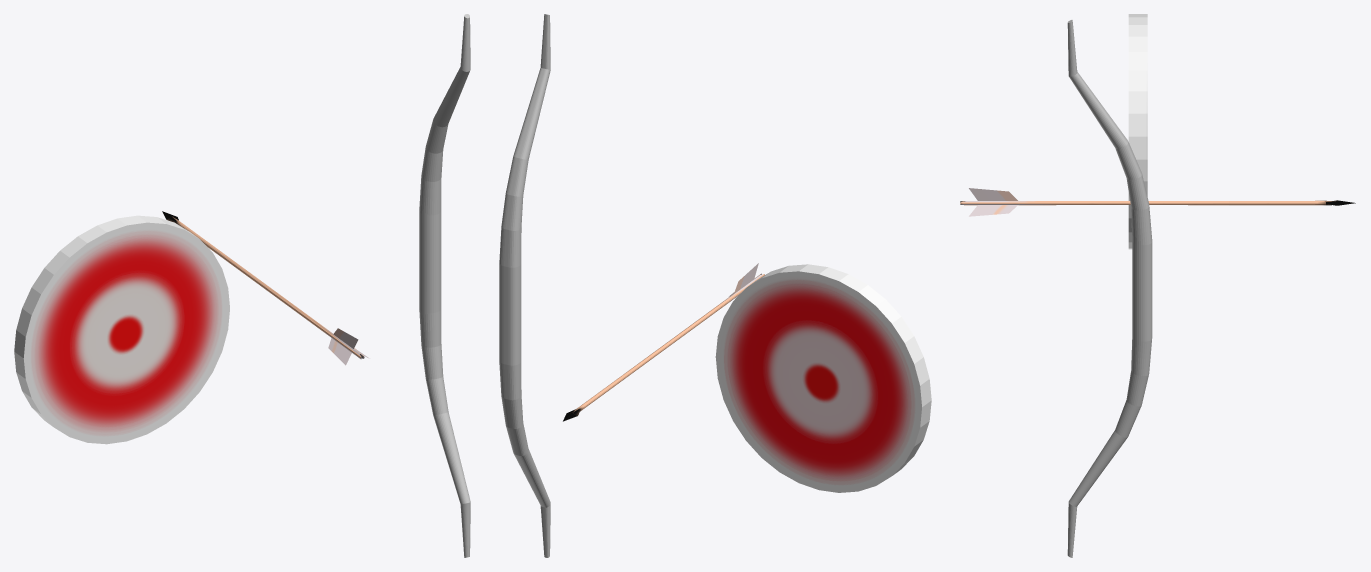
File: arrow.obj
The picture shows the model from 3 angles, left to right: view 1: azimuth 30°, elevation 25°; view 2: azimuth 150°, elevation 25°; view 3: azimuth 270°, elevation 25°; orthographic projection.
Visible parts, largest first — view 1: Cylinder.002, Cylinder.001_Cylinder, Cylinder_Cylinder.001; view 2: Cylinder.002, Cylinder.001_Cylinder, Cylinder_Cylinder.001; view 3: Cylinder.001_Cylinder, Cylinder.002, Cylinder_Cylinder.001.
Part boxes in pixels (x1=…): Cylinder.002: x1=14, y1=215, x2=229, y2=444; Cylinder.001_Cylinder: x1=419, y1=14, x2=470, y2=557; Cylinder_Cylinder.001: x1=162, y1=211, x2=369, y2=365; Cylinder.002: x1=715, y1=264, x2=931, y2=492; Cylinder.001_Cylinder: x1=499, y1=14, x2=550, y2=557; Cylinder_Cylinder.001: x1=563, y1=263, x2=764, y2=421; Cylinder.001_Cylinder: x1=1067, y1=20, x2=1152, y2=557; Cylinder.002: x1=1128, y1=14, x2=1147, y2=249; Cylinder_Cylinder.001: x1=960, y1=188, x2=1355, y2=216.
Bounding box in the file's own units: 26.44 × 32.4 × 21.67.
